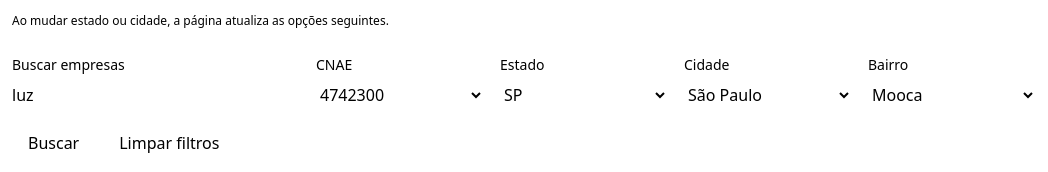
it: mudar somente a página descarta edições locais ainda não submetidas
Replace the text in the search field named "q" with "rascunho local" at [156, 95], box [12,83,300,107]
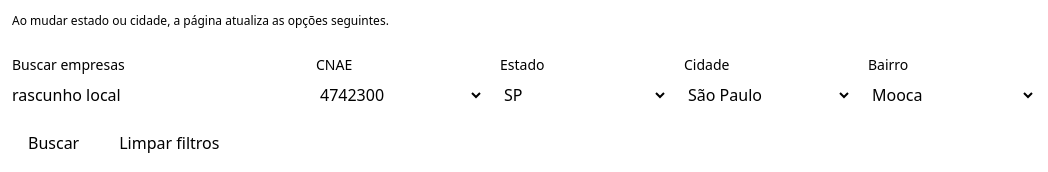
Select "Todos" in the dropdown named "cnae" at [400, 95], box [316,83,484,107]
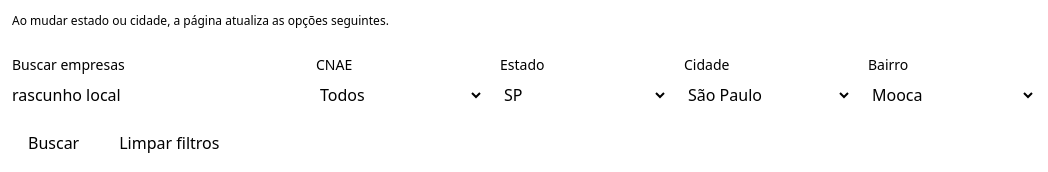
Select "Todos" in the dropdown named "bairro" at [952, 95], box [868,83,1036,107]
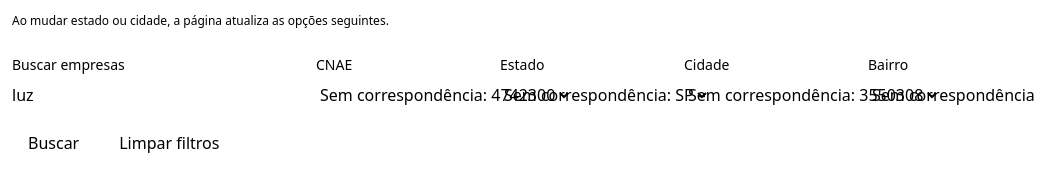
expect the search field named "q" holds "luz": met, box [12,83,300,107]
expect the dropdown named "cnae" shows "Sem correspondência: 4742300": met, box [316,83,572,107]
